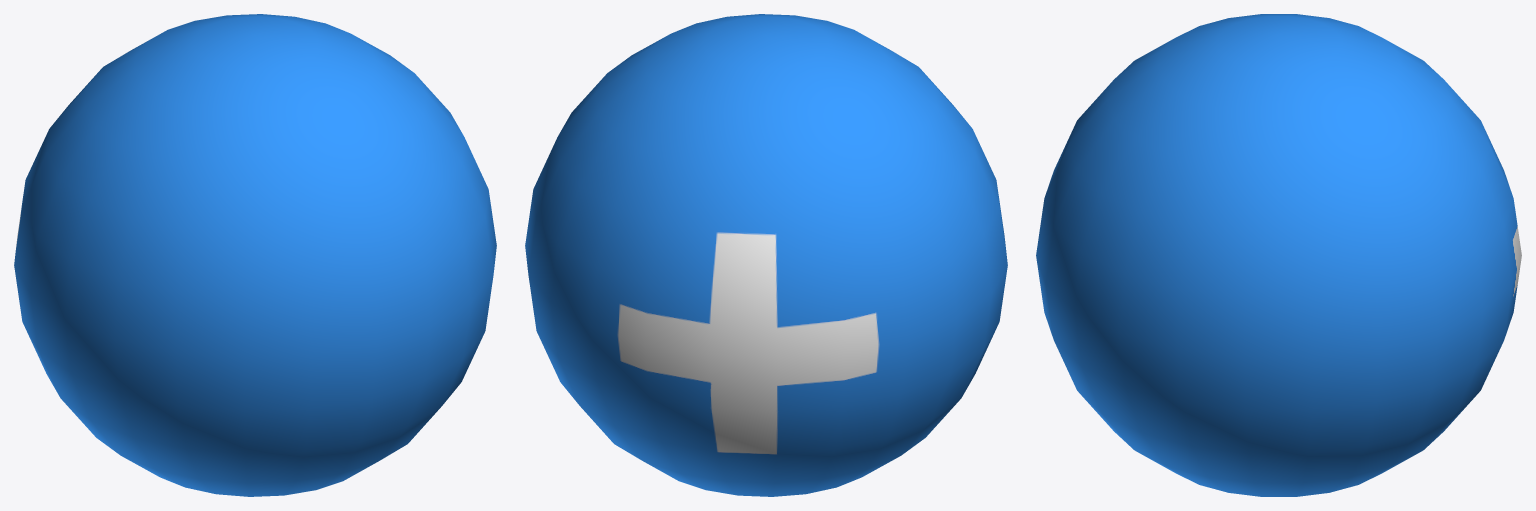
Rendered from proton.glb.
The picture shows the model from 3 angles, left to right: view 1: azimuth 30°, elevation 25°; view 2: azimuth 150°, elevation 25°; view 3: azimuth 270°, elevation 25°; orthographic projection.
Visible parts, largest first — view 1: Sphere; view 2: Sphere; view 3: Sphere.
Boxes of the visible parts, x1,y1,x2,y2 form: Sphere: (14,14,496,496); Sphere: (525,14,1007,496); Sphere: (1036,14,1521,496).
Bounding box in the file's own units: 1.98 × 2 × 2.
Materials: 1 (1 with a texture image).
